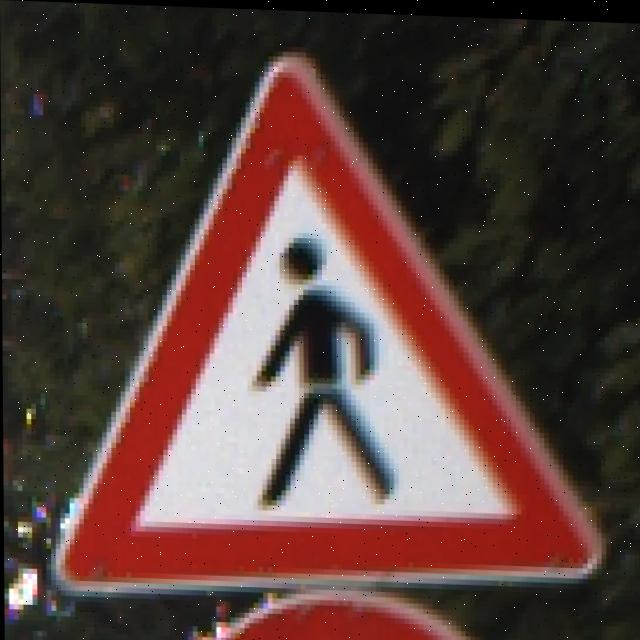crosswalk: (87, 72, 585, 596)
